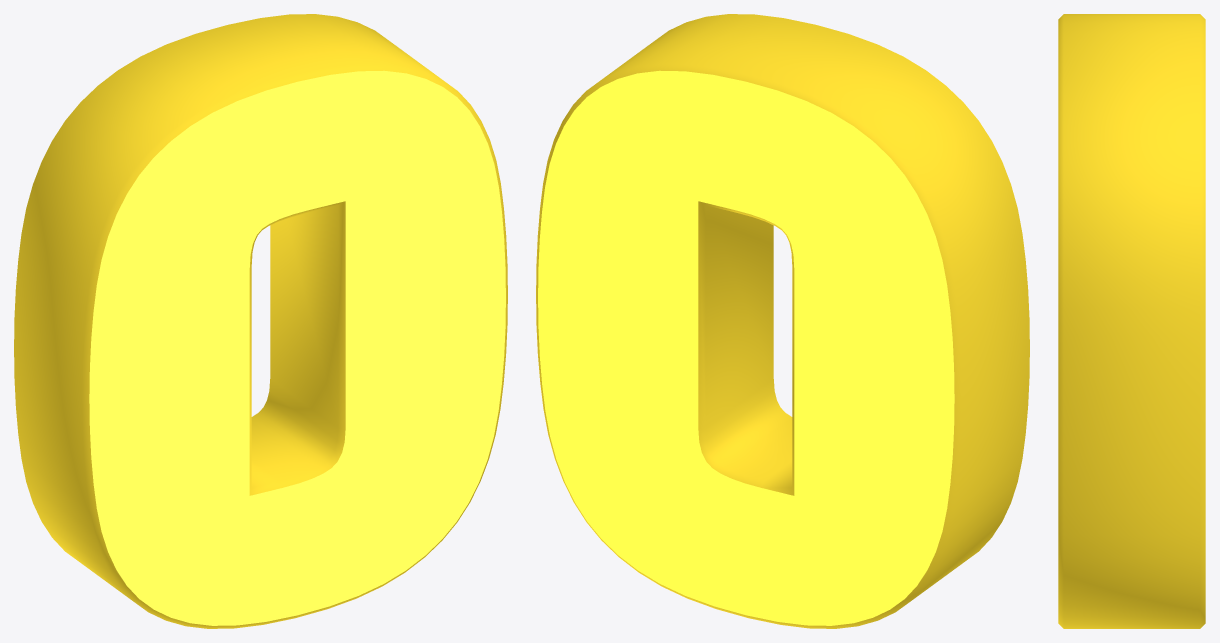
3 renders of one model, left to right at view 1: azimuth 30°, elevation 25°; view 2: azimuth 150°, elevation 25°; view 3: azimuth 270°, elevation 25°, orthographic.
Parts seen in each view (by area): view 1: glyph; view 2: glyph; view 3: glyph.
Boxes of the visible parts, left/top/right/bottom form: glyph: left=14, top=14, right=507, bottom=628; glyph: left=536, top=14, right=1029, bottom=628; glyph: left=1058, top=14, right=1205, bottom=628.
Bounding box in the file's own units: 0.0543 × 0.0662 × 0.0162.
